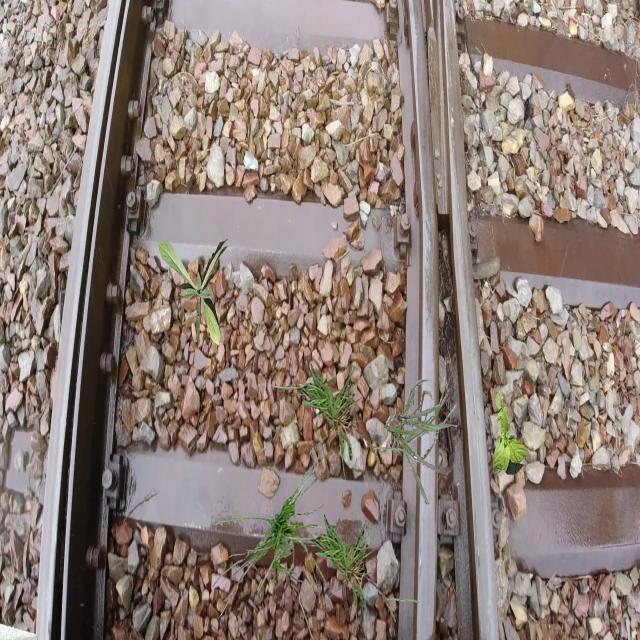Plant: (212, 455, 330, 618), (276, 514, 419, 634), (263, 363, 406, 482), (385, 380, 458, 504), (158, 239, 230, 347), (493, 392, 528, 476)
